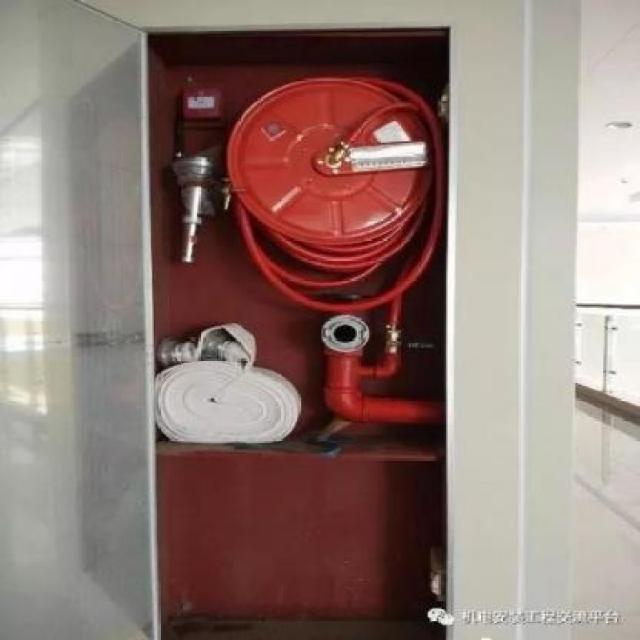firehydrant: (135, 18, 460, 640)
